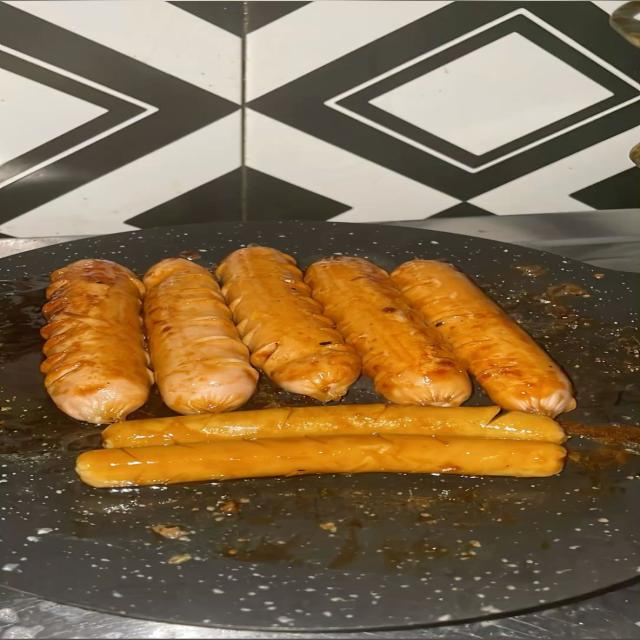sausage: (392, 260, 575, 416), (76, 435, 565, 486), (306, 256, 471, 406), (217, 247, 359, 401), (103, 404, 565, 447), (41, 260, 153, 423), (144, 258, 258, 413)
